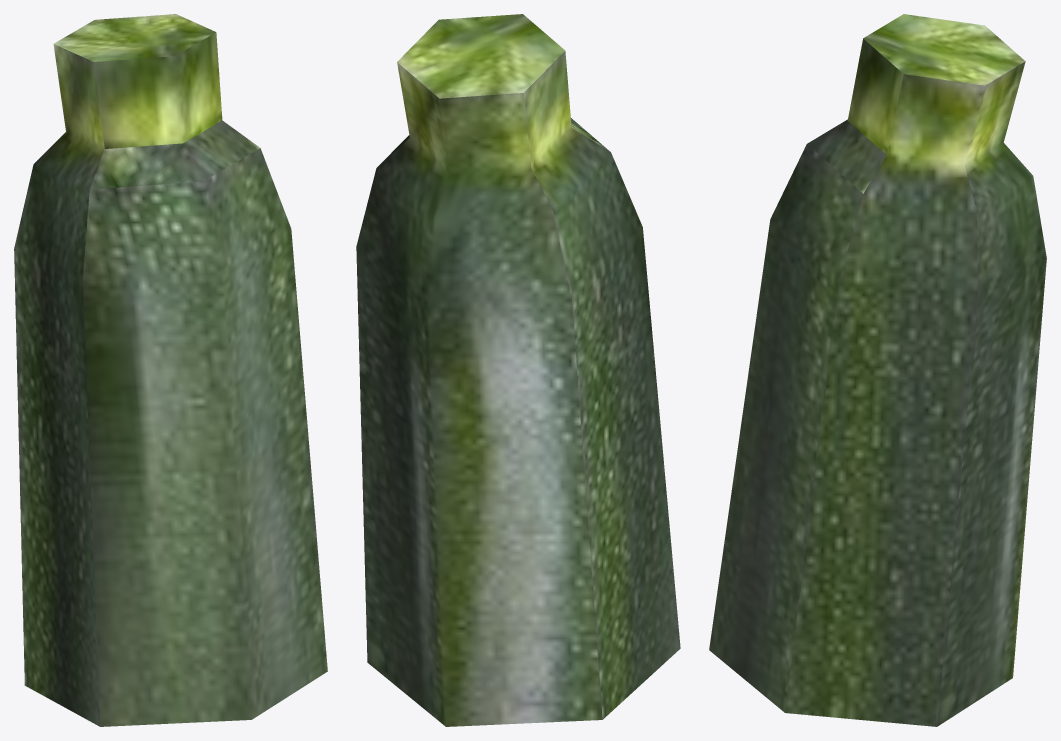
The model's file is Zucchini_002.glb.
3 views of the same model, side by side, from view 1: azimuth 30°, elevation 25°; view 2: azimuth 150°, elevation 25°; view 3: azimuth 270°, elevation 25° (orthographic). The views are drawn at different scales.
Visible parts, largest first — view 1: Zucchini.002; view 2: Zucchini.002; view 3: Zucchini.002.
Boxes of the visible parts, x1,y1,x2,y2 form: Zucchini.002: [14, 14, 327, 726]; Zucchini.002: [356, 14, 680, 726]; Zucchini.002: [709, 14, 1046, 726].
Size of the model in its own units: 0.0627 by 0.1673 by 0.0801.
1 material, 1 textured.
